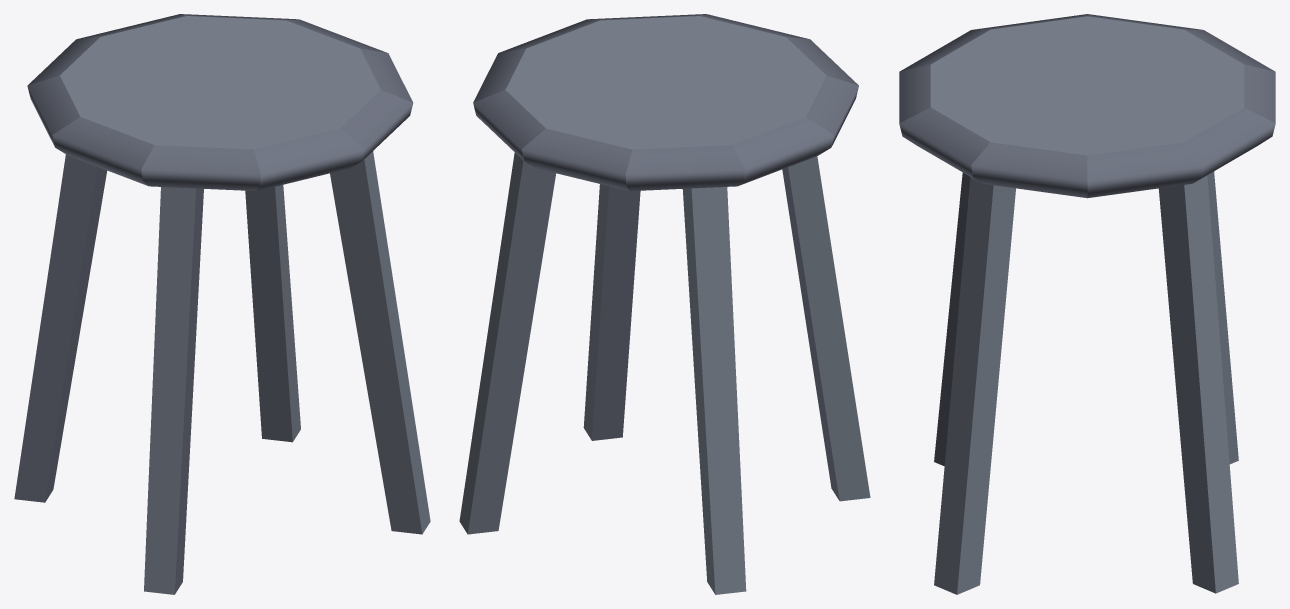
Rendered from stool.fbx.
3 views of the same model, side by side, from view 1: azimuth 30°, elevation 25°; view 2: azimuth 150°, elevation 25°; view 3: azimuth 270°, elevation 25° (orthographic).
Parts seen in each view (by area): view 1: stool; view 2: stool; view 3: stool.
Boxes of the visible parts, bbox=[...] form: stool: bbox=[14, 14, 430, 594]; stool: bbox=[459, 14, 870, 594]; stool: bbox=[899, 14, 1275, 594].
Bounding box in the file's own units: 1.01 × 1.23 × 0.9605.
